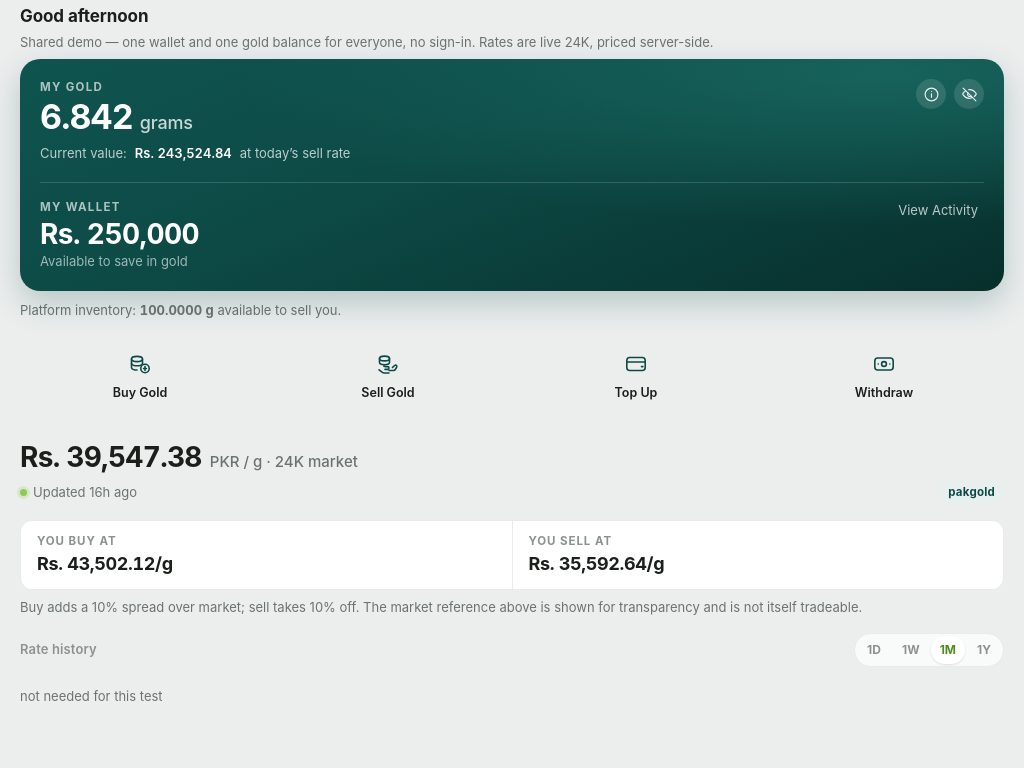
Test: hide balances toggle › masks the gold, its value and the wallet when hidden
Expected: the text "6.842 grams" is shown, [40,98,193,136]
Click the button named "Hide balances" at (969, 94), box [954,80,984,110]
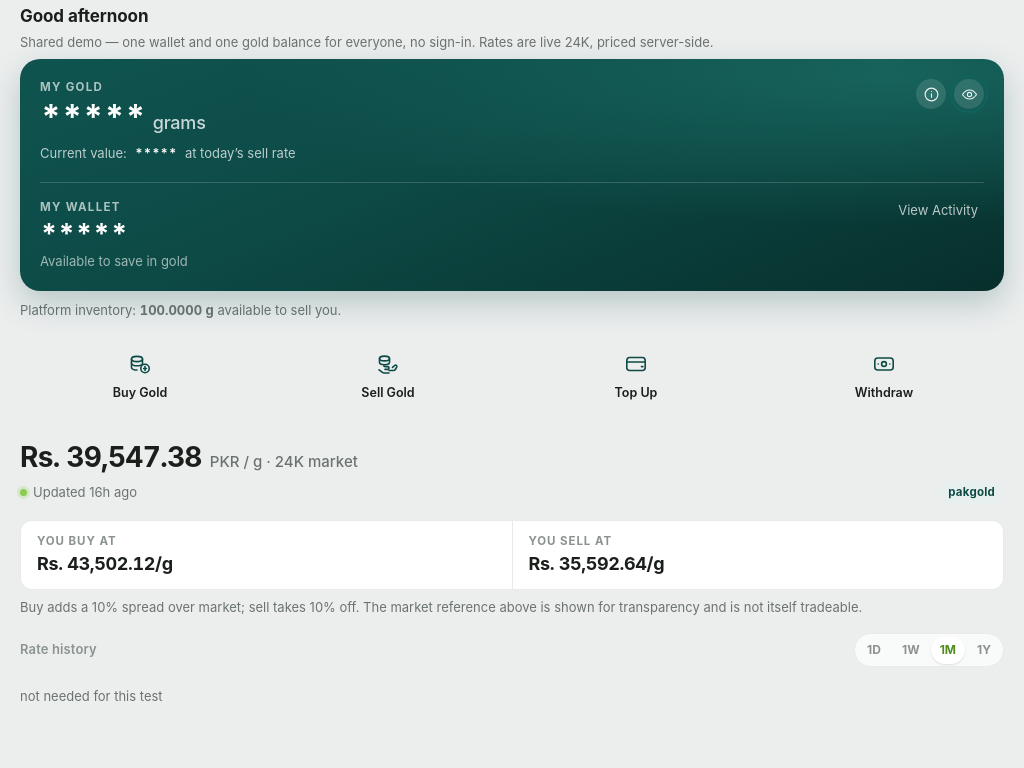
Expected: the text "*****" is shown 3 times, [40,98,206,136]; [135,144,177,162]; [40,217,128,251]
Result: the text "6.842" is gone
Result: the text "250,000" is gone
